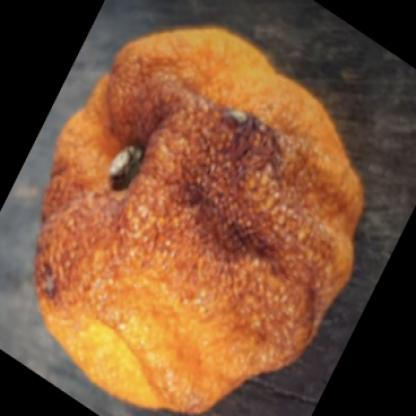rotten: (35, 24, 364, 416)
